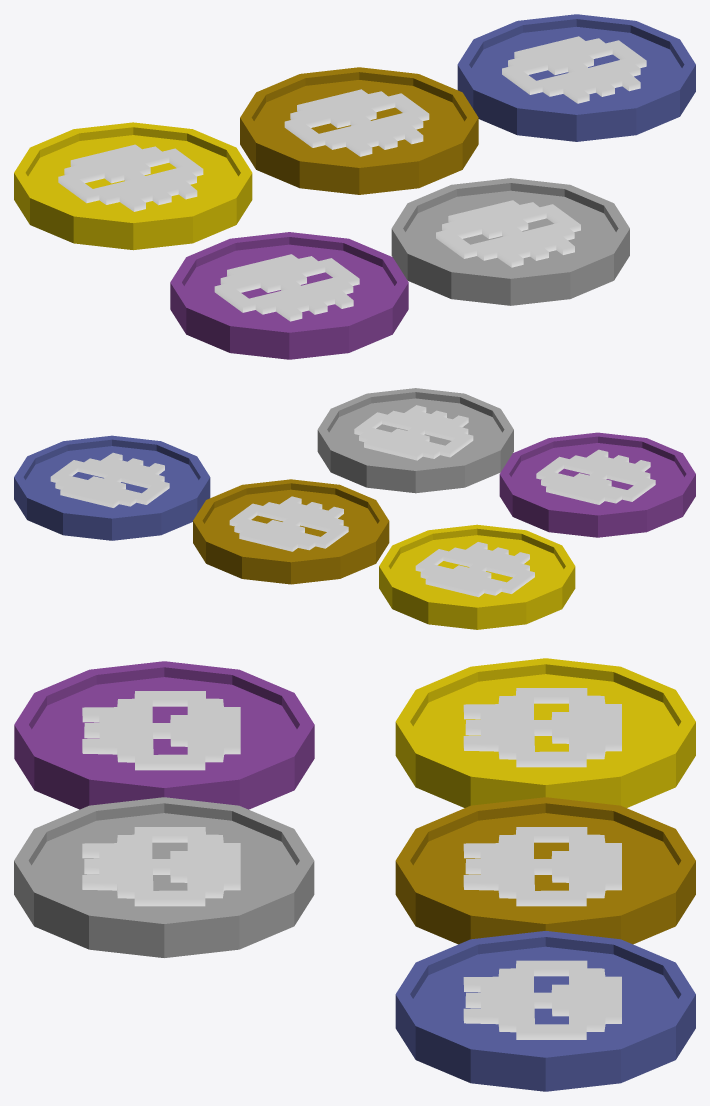
The model's file is Coins.fbx.
3 views of the same model, one above another, from view 1: azimuth 30°, elevation 25°; view 2: azimuth 150°, elevation 25°; view 3: azimuth 270°, elevation 25° (orthographic). The views are drawn at different scales.
Parts seen in each view (by area): view 1: Coin4, Coin1, Coin5, Coin2, Coin3; view 2: Coin1, Coin5, Coin2, Coin4, Coin3; view 3: Coin4, Coin3, Coin2, Coin5, Coin1.
Boxes of the visible parts, x1=… form: Coin4: x1=391, y1=178, x2=629, y2=305; Coin1: x1=240, y1=67, x2=478, y2=194; Coin5: x1=170, y1=232, x2=408, y2=359; Coin2: x1=14, y1=122, x2=252, y2=250; Coin3: x1=457, y1=14, x2=695, y2=141; Coin1: x1=193, y1=479, x2=389, y2=584; Coin5: x1=499, y1=432, x2=695, y2=537; Coin2: x1=379, y1=524, x2=575, y2=629; Coin4: x1=317, y1=388, x2=513, y2=493; Coin3: x1=14, y1=435, x2=210, y2=540; Coin4: x1=14, y1=797, x2=314, y2=957; Coin3: x1=395, y1=931, x2=695, y2=1091; Coin2: x1=395, y1=658, x2=695, y2=807; Coin5: x1=14, y1=661, x2=314, y2=809; Coin1: x1=395, y1=797, x2=695, y2=944.
Size of the model in its own units: 25.18 by 1 by 18.16.
